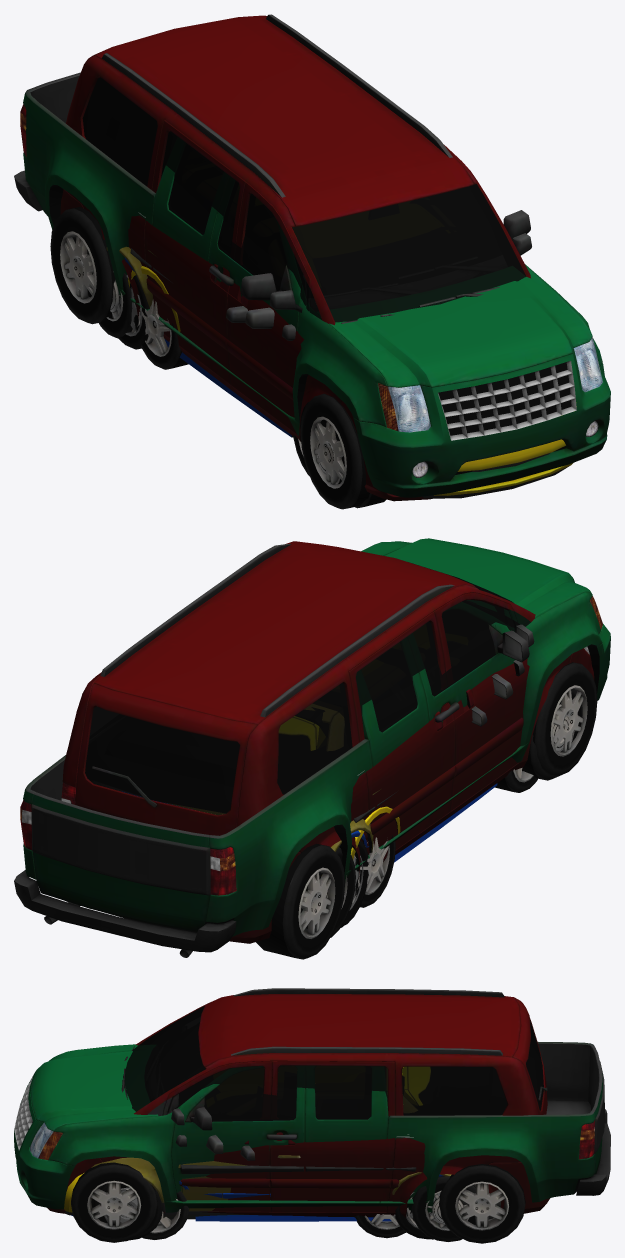
The model's file is passenger_cars.glb.
The picture shows the model from 3 angles, top to bottom: view 1: azimuth 30°, elevation 25°; view 2: azimuth 150°, elevation 25°; view 3: azimuth 270°, elevation 25°; orthographic projection. The views are drawn at different scales.
Parts seen in each view (by area): view 1: minivan_body, Pickup_Body, Wheel_E003, Wheel_E002, Hatchback_Body, Wheel_B003, Wheel_D003, Sedan_Body, Wheel_A003, Coupe_Body; view 2: minivan_body, Pickup_Body, Wheel_E003, Wheel_E002, Wheel_B003, Wheel_D002, Coupe_Body, Sedan_Body, Wheel_A003, Wheel_D003, Wheel_F002; view 3: minivan_body, Pickup_Body, Wheel_E001, Wheel_E, Sedan_Body, Wheel_D001, Coupe_Body, Wheel_B001, Wheel_F, Wheel_A, Wheel_A001, Hatchback_Body.
Boxes of the visible parts, x1=… form: minivan_body: x1=60, y1=14, x2=531, y2=501; Pickup_Body: x1=14, y1=72, x2=610, y2=497; Wheel_E003: x1=50, y1=207, x2=115, y2=324; Wheel_E002: x1=300, y1=393, x2=369, y2=509; Hatchback_Body: x1=128, y1=266, x2=572, y2=498; Wheel_B003: x1=134, y1=296, x2=188, y2=369; Wheel_D003: x1=87, y1=252, x2=132, y2=338; Sedan_Body: x1=106, y1=246, x2=274, y2=328; Wheel_A003: x1=108, y1=274, x2=149, y2=349; Coupe_Body: x1=124, y1=258, x2=293, y2=437; minivan_body: x1=61, y1=541, x2=594, y2=943; Pickup_Body: x1=14, y1=538, x2=610, y2=957; Wheel_E003: x1=256, y1=843, x2=344, y2=959; Wheel_E002: x1=533, y1=662, x2=597, y2=776; Wheel_B003: x1=355, y1=835, x2=395, y2=907; Wheel_D002: x1=522, y1=688, x2=582, y2=780; Coupe_Body: x1=122, y1=706, x2=497, y2=862; Sedan_Body: x1=207, y1=674, x2=513, y2=876; Wheel_A003: x1=341, y1=840, x2=368, y2=926; Wheel_D003: x1=306, y1=847, x2=355, y2=937; Wheel_F002: x1=495, y1=768, x2=537, y2=792; minivan_body: x1=47, y1=988, x2=550, y2=1217; Pickup_Body: x1=14, y1=1036, x2=610, y2=1212; Wheel_E001: x1=439, y1=1164, x2=525, y2=1243; Wheel_E: x1=71, y1=1162, x2=157, y2=1242; Sedan_Body: x1=91, y1=1104, x2=451, y2=1219; Wheel_D001: x1=411, y1=1176, x2=475, y2=1241; Coupe_Body: x1=71, y1=1145, x2=443, y2=1221; Wheel_B001: x1=355, y1=1210, x2=414, y2=1238; Wheel_F: x1=142, y1=1191, x2=189, y2=1239; Wheel_A: x1=93, y1=1183, x2=162, y2=1240; Wheel_A001: x1=395, y1=1192, x2=445, y2=1239; Hatchback_Body: x1=64, y1=1067, x2=403, y2=1215.
Size of the model in its own units: 2.07 by 1.76 by 5.18.
Materials: 15 (15 with a texture image).
